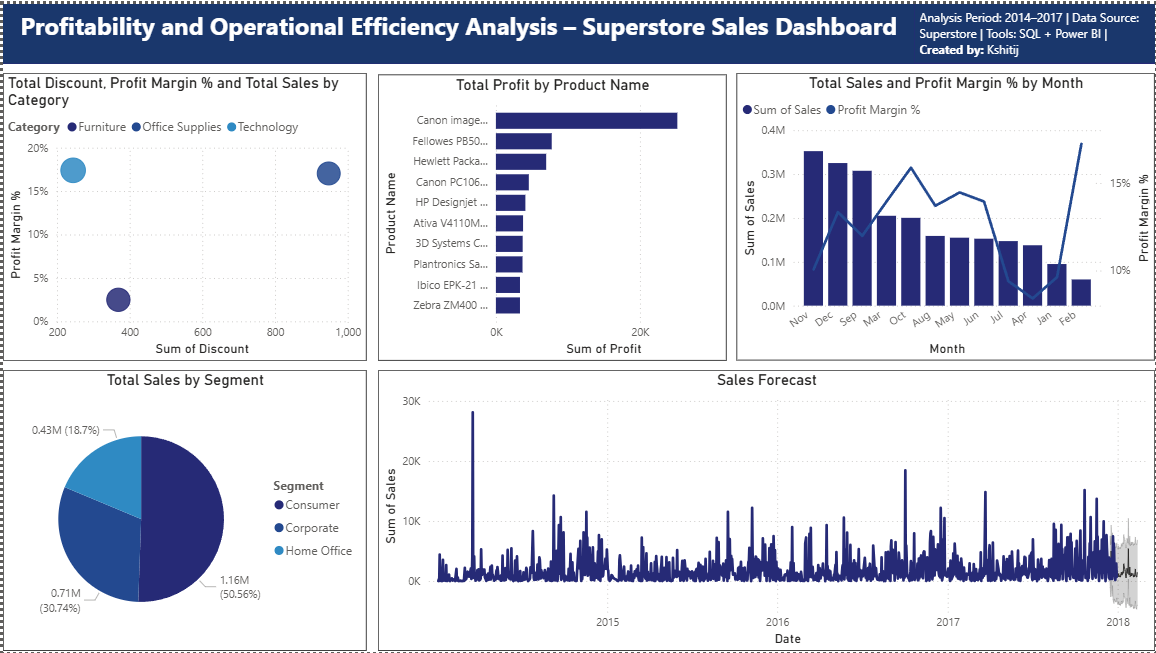

What the dashboard file says about the page in this screenshot:
{"tool":"powerbi","page":{"name":"Page 2","canvas":[1280,720],"ordinal":1},"visuals":[{"type":"group","id":"g1","title":"Group 1","box":[0,0,1279.5,66.2],"z":0},{"type":"scatterChart","title":"Total Discount, Profit Margin % and Total Sales by Category","fields":{"X":["Sum(Orders.Discount)"],"Y":["Date.Profit Margin %"],"Size":["Sum(Orders.Sales)"],"Series":["Orders.Category"]},"box":[0,77,404,320],"z":1},{"type":"clusteredBarChart","title":"Total Profit by Product Name","fields":{"Y":["Sum(Orders.Profit)"],"Category":["Orders.Product Name"]},"box":[416,78,387,318],"z":2},{"type":"lineClusteredColumnComboChart","title":"Total Sales and Profit Margin % by Month","fields":{"Y":["Sum(Orders.Sales)"],"Category":["Date.Month"],"Y2":["Date.Profit Margin %"]},"box":[814.6,77.2,464.9,319.5],"z":3},{"type":"pieChart","title":"Total Sales by Segment","fields":{"Y":["Sum(Orders.Sales)"],"Category":["Orders.Segment"]},"box":[0,407,404,312],"z":4},{"type":"lineChart","title":"Sales Forecast","fields":{"Y":["Sum(Orders.Sales)"],"Category":["Date.Date"]},"box":[416.4,407.3,863.1,311.9],"z":5},{"type":"textbox","box":[1013,0,266.5,65.1],"z":8000,"group":"g1"},{"type":"textbox","box":[0,0,1012.5,66.2],"z":12001,"group":"g1"}]}

Visuals, with their boxes in screenshot pixels (x1, y1, x2, y2), scaled from the page's 1280x720 canvas onto the 1156x653 screenshot:
"Group 1" group: {"left": 0, "top": 0, "right": 1155, "bottom": 60}
"Total Discount, Profit Margin % and Total Sales by Category" scatterChart: {"left": 0, "top": 70, "right": 365, "bottom": 360}
"Total Profit by Product Name" clusteredBarChart: {"left": 376, "top": 71, "right": 725, "bottom": 359}
"Total Sales and Profit Margin % by Month" lineClusteredColumnComboChart: {"left": 736, "top": 70, "right": 1155, "bottom": 360}
"Total Sales by Segment" pieChart: {"left": 0, "top": 369, "right": 365, "bottom": 652}
"Sales Forecast" lineChart: {"left": 376, "top": 369, "right": 1155, "bottom": 652}
textbox: {"left": 915, "top": 0, "right": 1155, "bottom": 59}
textbox: {"left": 0, "top": 0, "right": 914, "bottom": 60}
